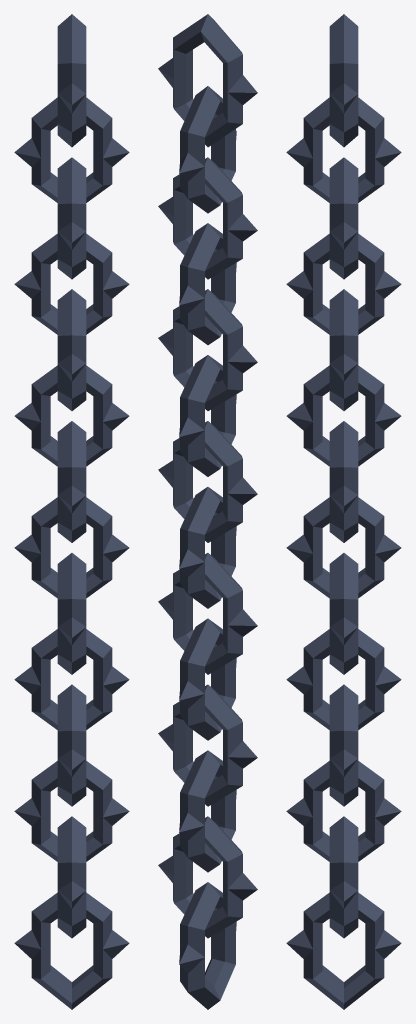
File: Chain01.fbx
The picture shows the model from 3 angles, left to right: view 1: azimuth 90°, elevation 25°; view 2: azimuth 150°, elevation 25°; view 3: azimuth 270°, elevation 25°; orthographic projection.
Visible parts, largest first — view 1: Chaine1_export; view 2: Chaine1_export; view 3: Chaine1_export.
Boxes of the visible parts, x1,y1,x2,y2 form: Chaine1_export: [14, 14, 129, 1009]; Chaine1_export: [158, 14, 257, 1009]; Chaine1_export: [286, 14, 401, 1009].
Size of the model in its own units: 26.93 by 256 by 26.93.
